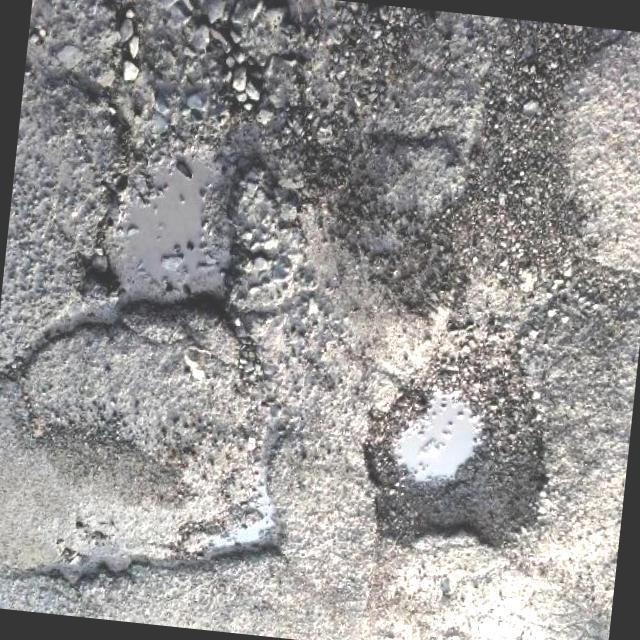pothole: (70, 102, 274, 332), (350, 361, 563, 565)
